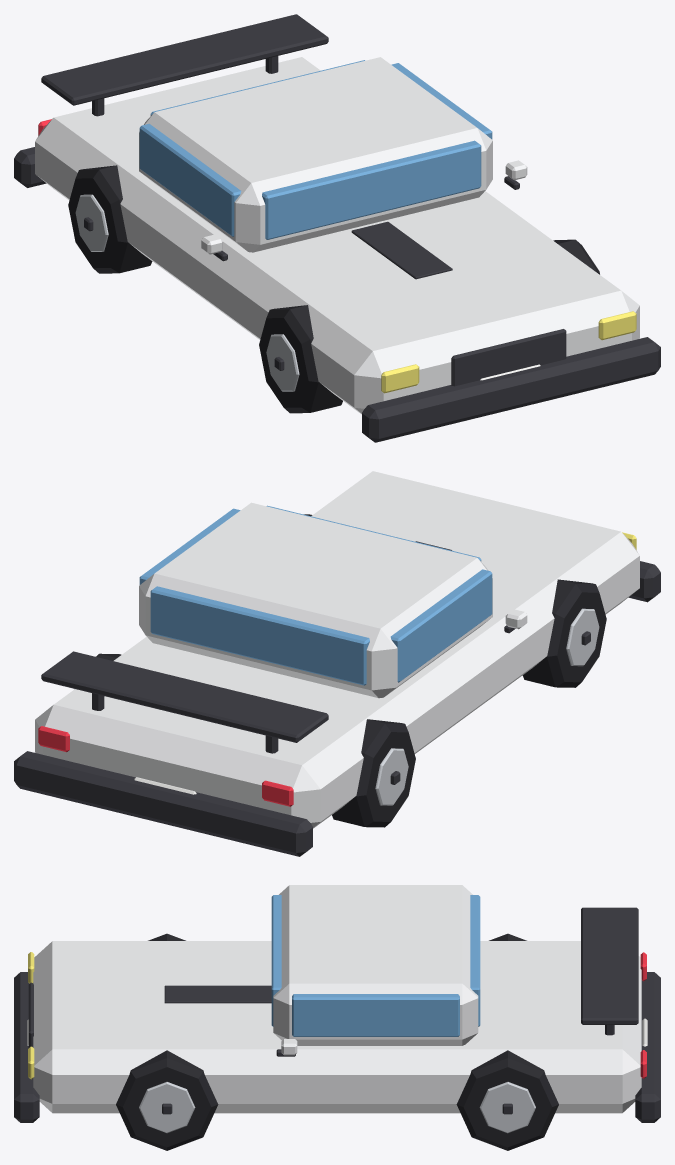
File: WhiteSportsCar.fbx
The picture shows the model from 3 angles, top to bottom: view 1: azimuth 30°, elevation 25°; view 2: azimuth 150°, elevation 25°; view 3: azimuth 270°, elevation 25°; orthographic projection. The views are drawn at different scales.
Visible parts, largest first — view 1: WhiteSportsCar, WhiteSportsCar_WheelBR, WhiteSportsCar_WheelFR; view 2: WhiteSportsCar, WhiteSportsCar_WheelBR, WhiteSportsCar_WheelFR; view 3: WhiteSportsCar, WhiteSportsCar_WheelBL, WhiteSportsCar_WheelFL.
Part boxes in pixels (x1,y1,x2,y2): WhiteSportsCar: [14, 14, 660, 442]; WhiteSportsCar_WheelBR: [68, 165, 152, 273]; WhiteSportsCar_WheelFR: [259, 305, 342, 413]; WhiteSportsCar: [14, 471, 660, 856]; WhiteSportsCar_WheelBR: [332, 719, 415, 827]; WhiteSportsCar_WheelFR: [522, 579, 606, 687]; WhiteSportsCar: [14, 885, 660, 1122]; WhiteSportsCar_WheelBL: [456, 1050, 558, 1150]; WhiteSportsCar_WheelFL: [116, 1050, 218, 1150].
Bounding box in the file's own units: 5.15 × 2.66 × 10.1.
1 material, 1 textured.
